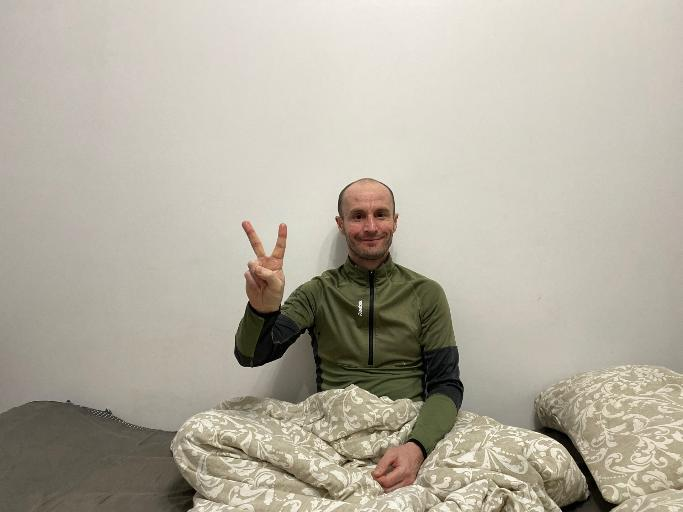no_gesture: (370, 441, 422, 493)
peace: (239, 218, 287, 309)
